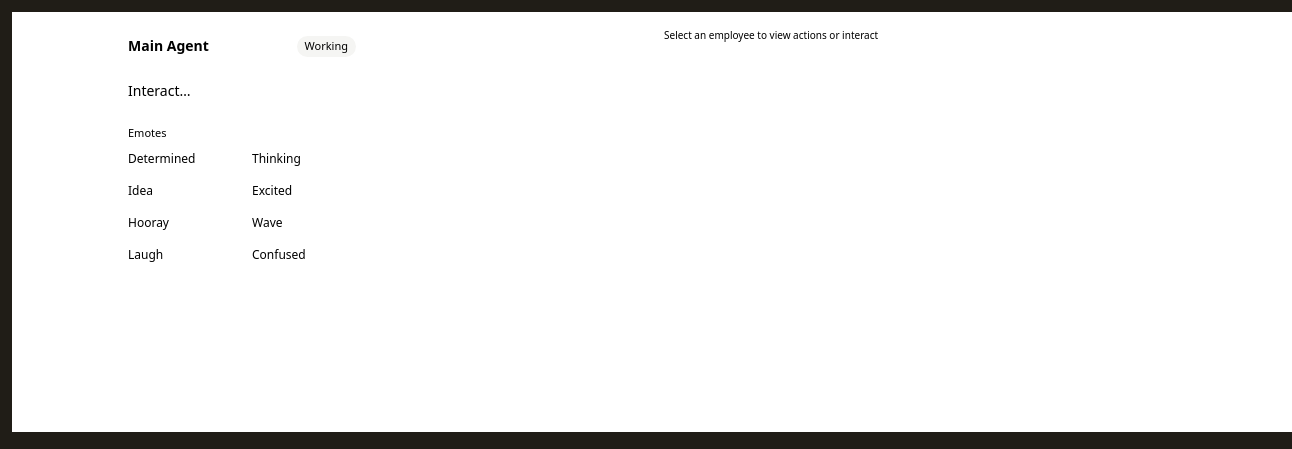
Test: OfficeCanvas › offers agent emotes and closes the action menu after selection
Expected: the text "Main Agent" is shown, [128,36,209,56]
Click the button "Wave" at (304, 223), box [244,209,364,237]
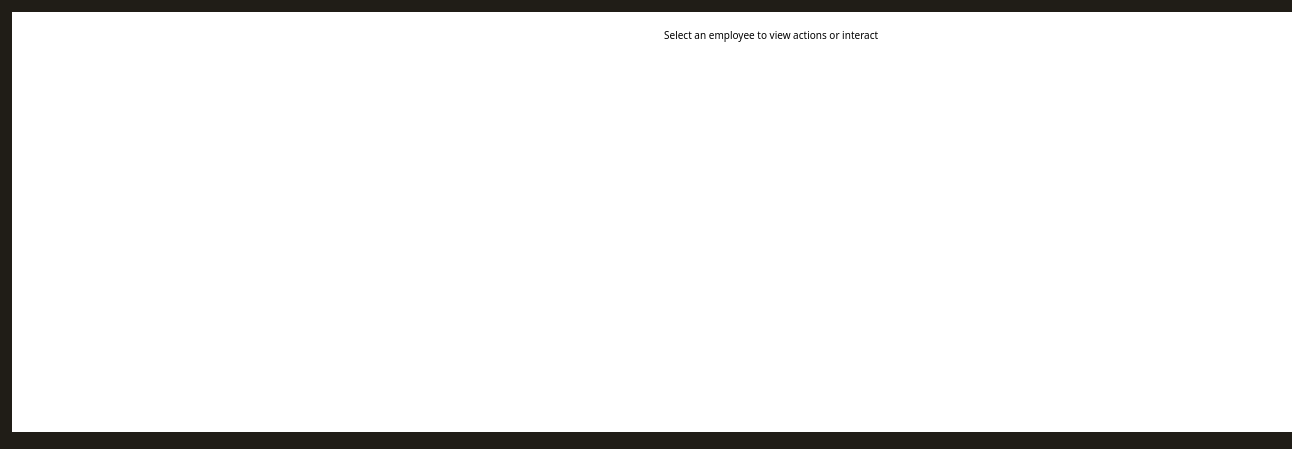
Now the text "Emotes" is gone
